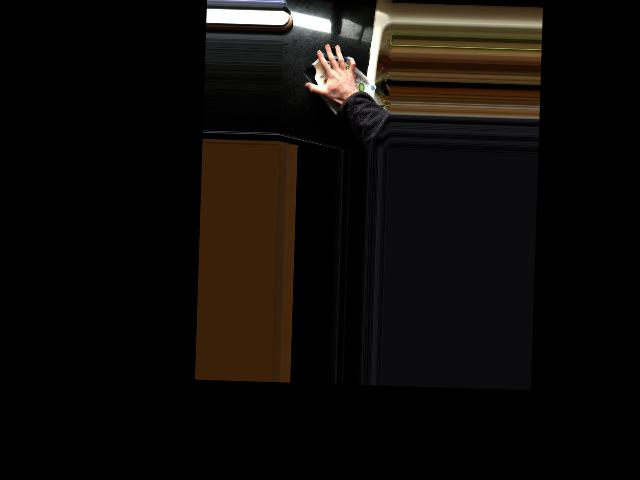cheese: (302, 44, 380, 121)
